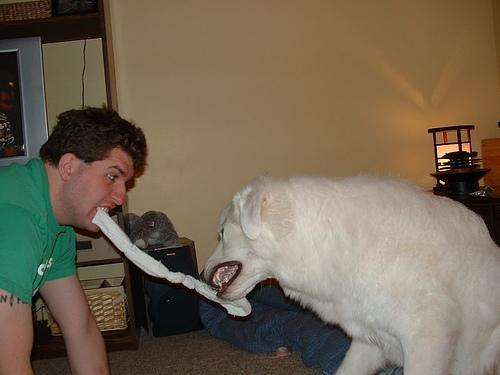Great_Pyrenees: (195, 172, 499, 374)
